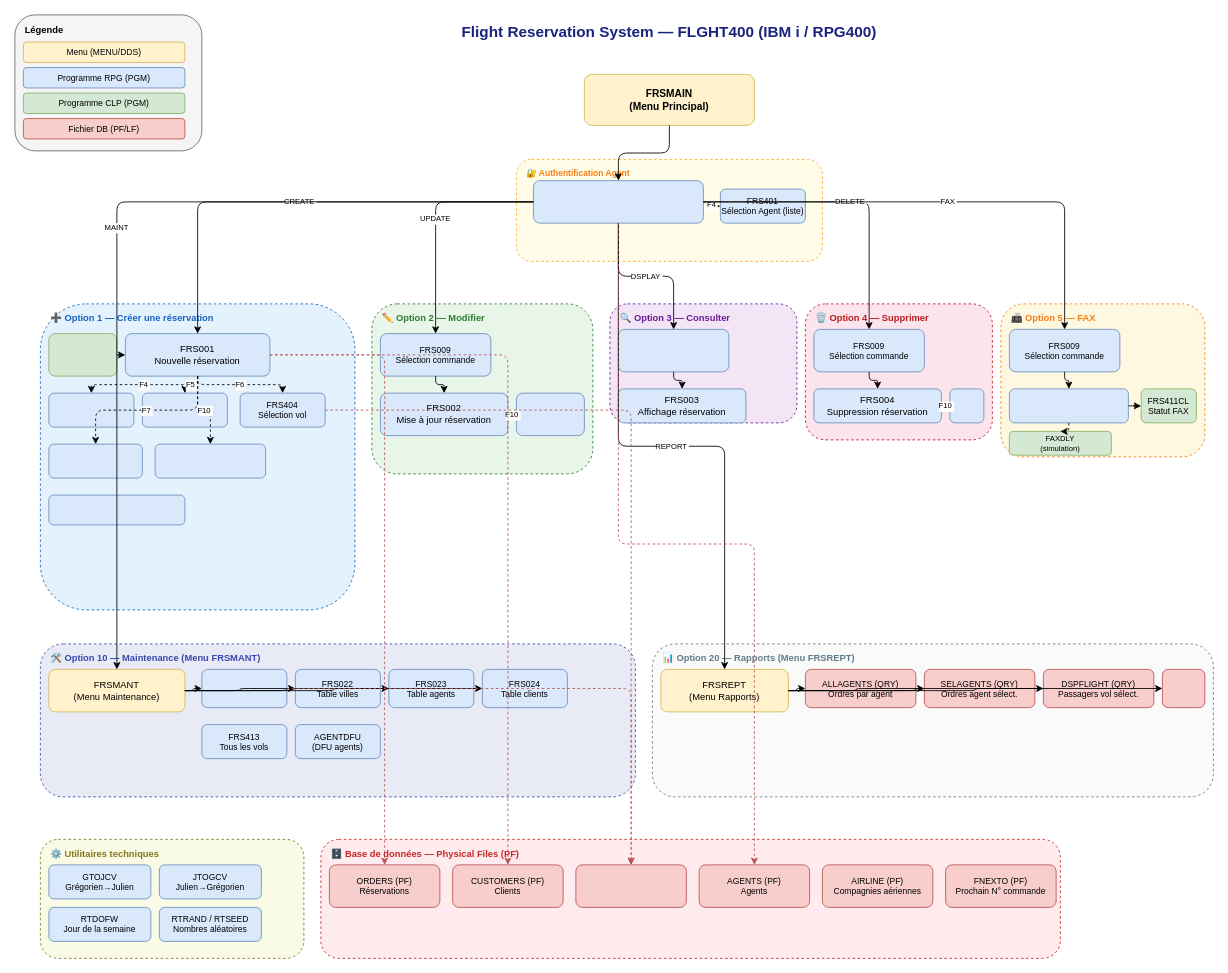
Some shapes in this 1228 by 973 pixel diagram are drawn without their labels. Here are the shapes that lost their labels. From the top down, the box of each, then its label:
(533, 180, 703, 223): FRS000 Logon / Authentification
(48, 333, 117, 376): FRS001CL (CLP wrapper)
(618, 329, 729, 372): FRS009/FRS010 Sélection commande
(48, 392, 134, 427): FRS402 Ville départ
(142, 392, 227, 427): FRS403 Ville arrivée
(516, 392, 584, 436): FRS409 Confirm. modif.
(949, 388, 984, 423): FRS410 Confirm.
(1009, 388, 1128, 423): FRS005 FAX réservation
(48, 443, 142, 478): FRS405 Sélection client
(154, 443, 266, 478): FRS406 Confirmation commande
(48, 494, 185, 525): FRS001T / FRS001U (variantes 2004)
(201, 669, 287, 708): FRS021 Horaires vols
(1162, 669, 1205, 708): PRTFLIGHT (QRY) Impr. passagers
(575, 864, 686, 907): FLIGHTS (PF) Horaires vols
